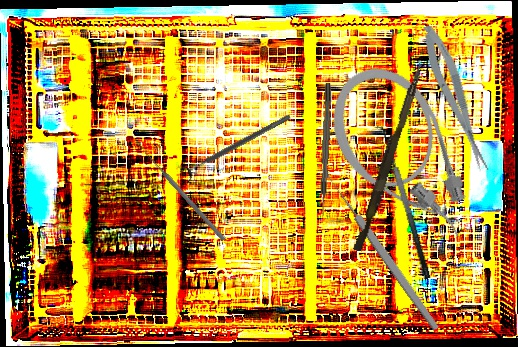Cannula: (311, 49, 491, 267)
Fixation Ring: (179, 108, 295, 184)
Hook Surgical: (318, 82, 333, 217)
Micro Scissor: (416, 21, 494, 177)
Pusher: (353, 60, 424, 254), (142, 148, 227, 243)
Spatula Surgical: (369, 122, 433, 284)
Surgical Spoon: (319, 165, 441, 332)
